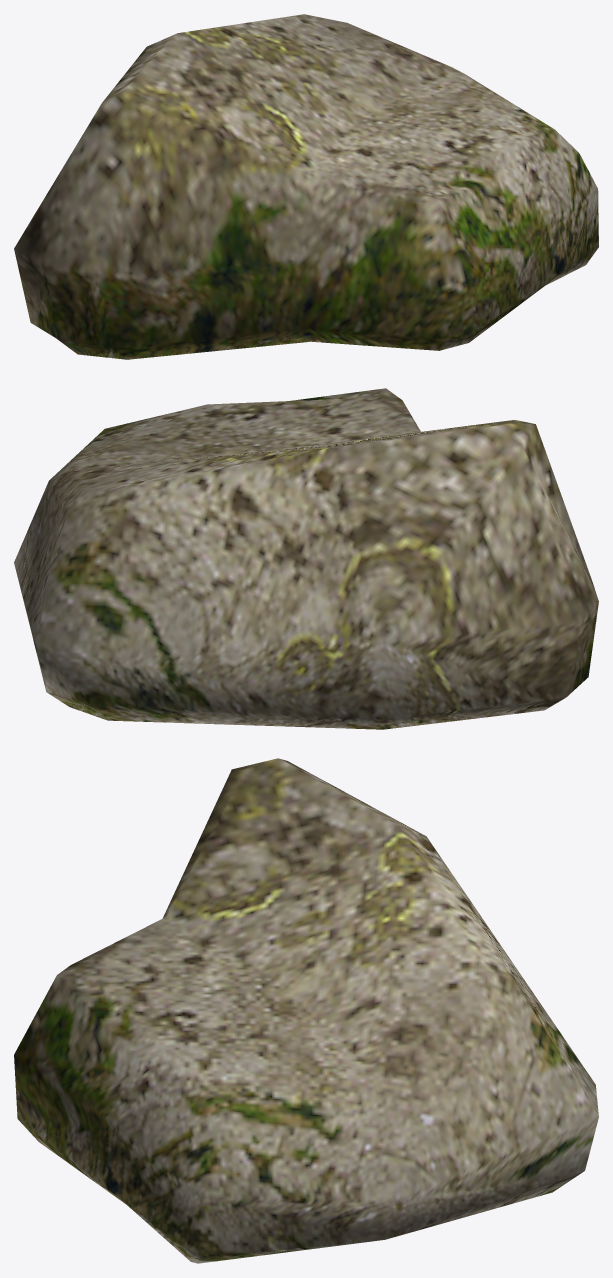
File: stone.fbx
3 views of the same model, one above another, from view 1: azimuth 30°, elevation 25°; view 2: azimuth 150°, elevation 25°; view 3: azimuth 270°, elevation 25° (orthographic). The views are drawn at different scales.
Parts seen in each view (by area): view 1: stone1_mesh; view 2: stone1_mesh; view 3: stone1_mesh.
Part boxes in pixels (x1,y1,x2,y2): stone1_mesh: (14,14,598,359); stone1_mesh: (14,388,598,729); stone1_mesh: (14,758,598,1263).
Bounding box in the file's own units: 3.99 × 1.78 × 3.43.
1 material, 1 textured.
